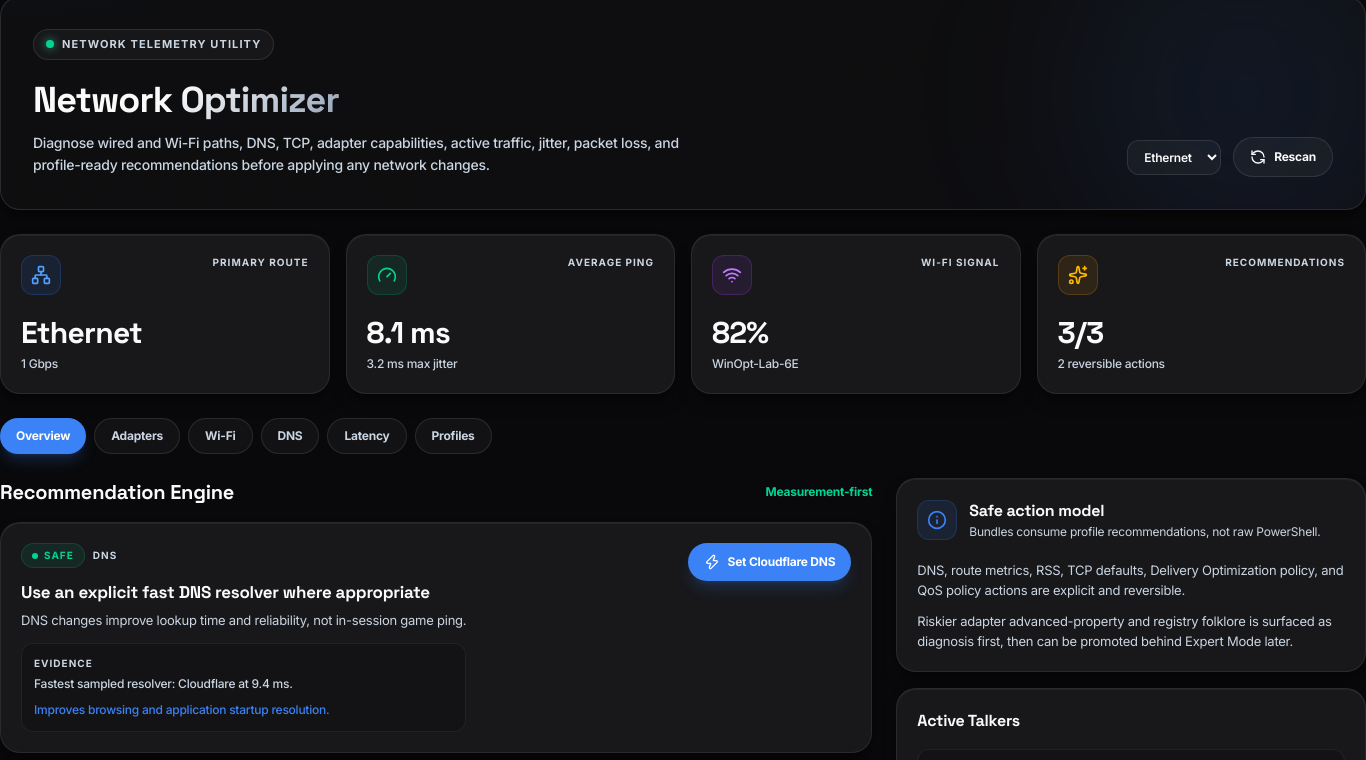
Scenario: NetworkOptimizerPage › shows adapter diagnostics and driver properties
Expected: the heading "Network Optimizer" is shown, [33,76,339,122]
Click the button "Adapters" at {"x": 137, "y": 436}, box [94,418,180,454]
(page scrolled)
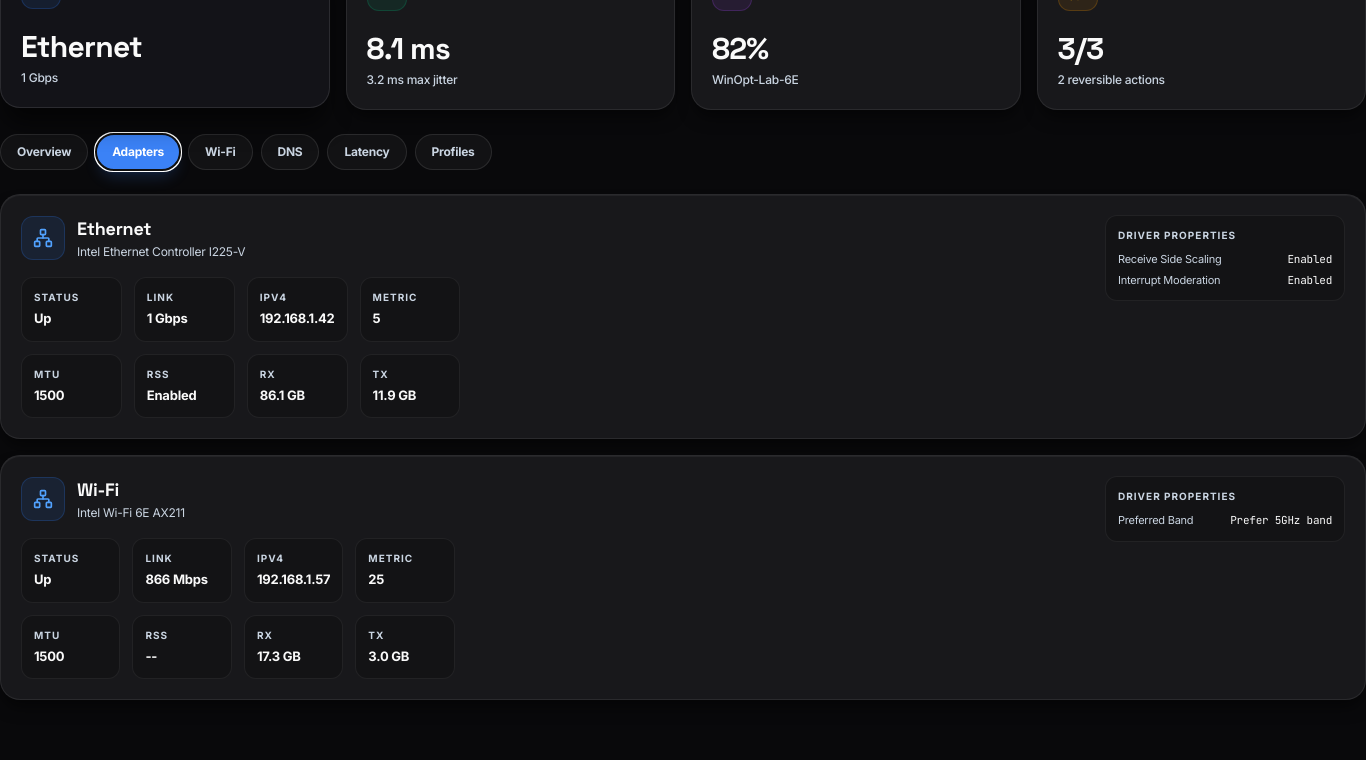
Expected: the text "Intel Ethernet Controller I225-V" is shown, [77,243,245,261]
Expected: the text "Receive Side Scaling" is shown, [1118,251,1222,268]
Expected: the text "192.168.1.42" is shown, [260,309,335,328]
